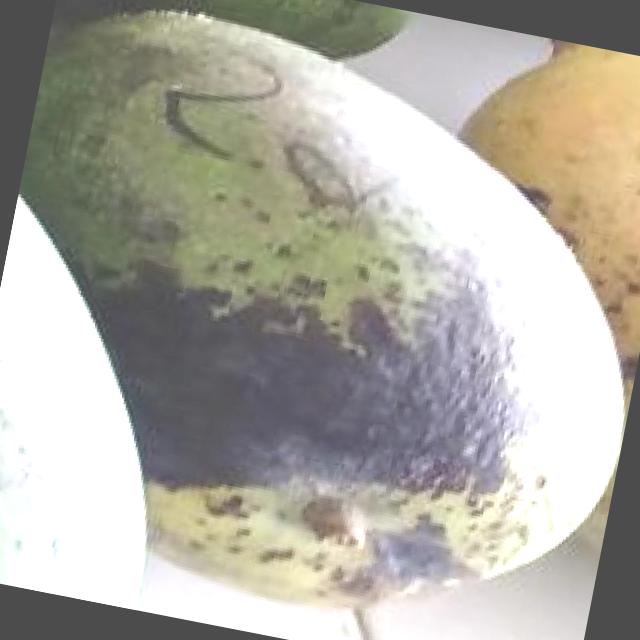Mango: (0, 3, 640, 640), (407, 26, 640, 414), (0, 194, 209, 610)
